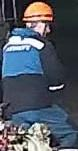helmet: (22, 1, 55, 24)
vest: (0, 27, 65, 117)
